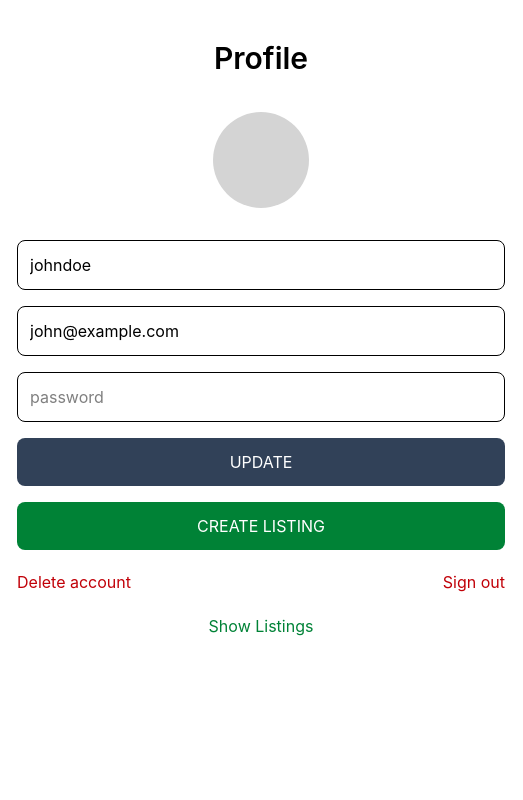
Test: Profile — show listings › each listing has an Edit link to /update-listing/<id>
What coordinates should you click on to do the following:
click the button "Show Listings"
I would click on:
 (261, 626)
Its box is [17,614,505,638].
(page scrolled)
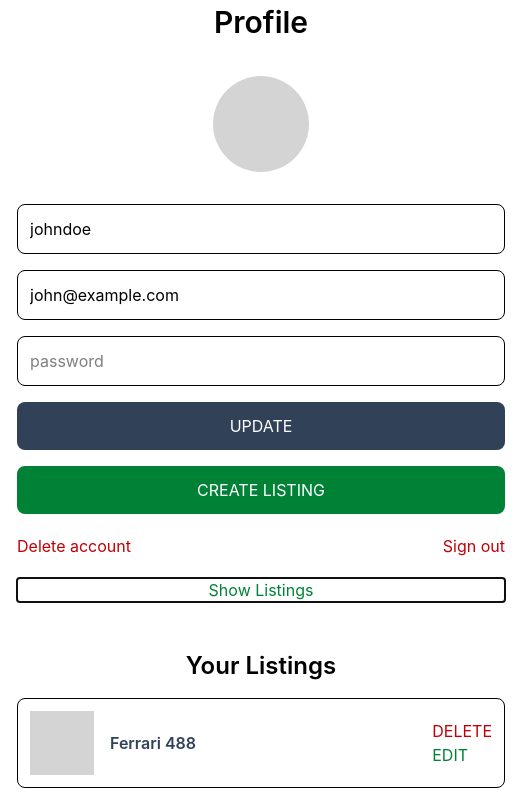
Expected: the text "Ferrari 488" is shown, [110,733,196,753]
